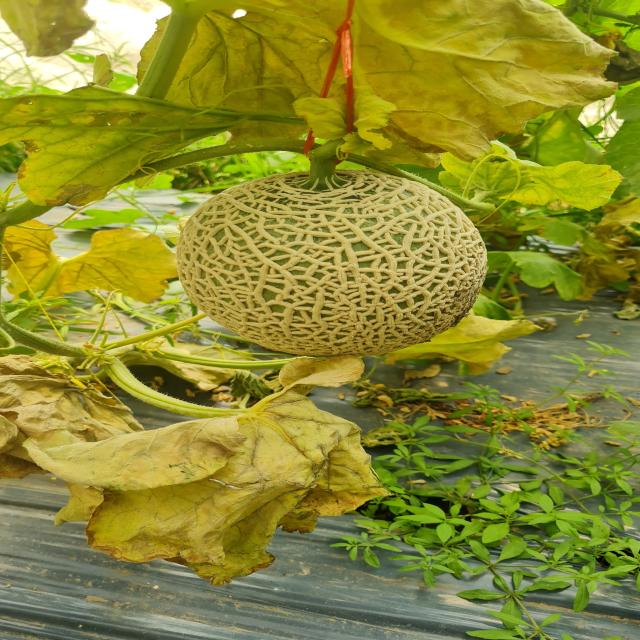melon: (178, 170, 487, 356)
